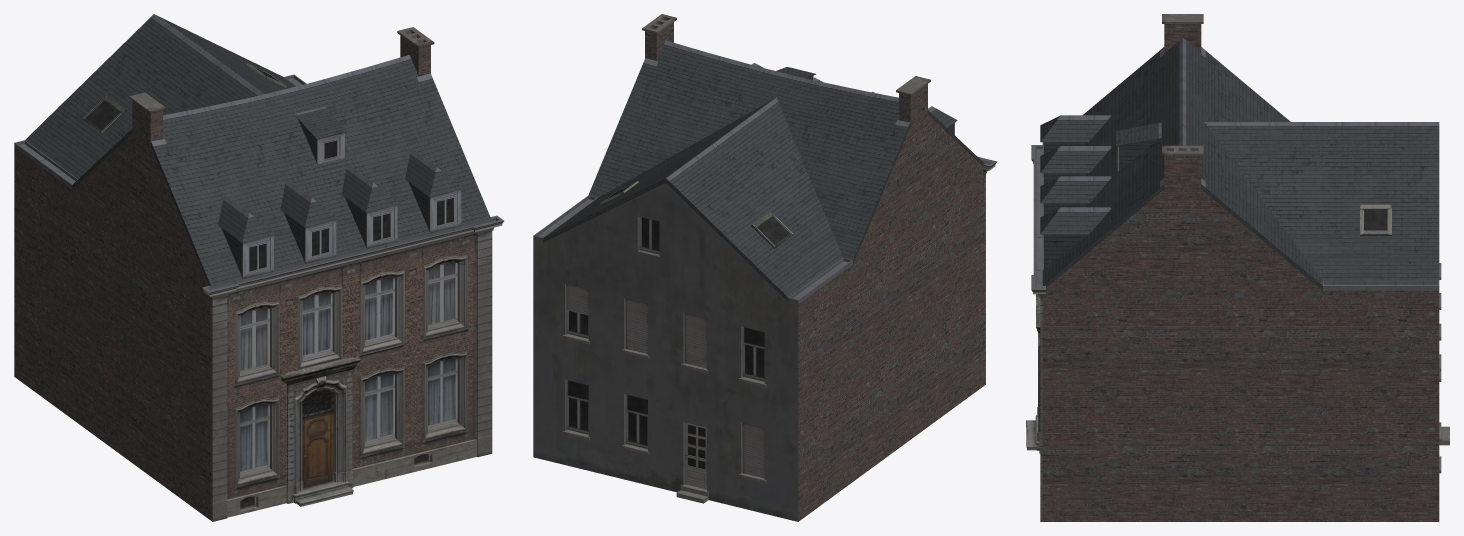
The picture shows the model from 3 angles, left to right: view 1: azimuth 30°, elevation 25°; view 2: azimuth 150°, elevation 25°; view 3: azimuth 270°, elevation 25°; orthographic projection. The views are drawn at different scales.
Size of the model in its own units: 9.92 by 11.78 by 12.25.
1 material, 1 textured.
